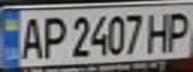0: (106, 11, 127, 56)
2: (66, 12, 93, 60)
4: (87, 11, 112, 57)
7: (124, 11, 148, 54)
A: (15, 14, 45, 61)
H: (145, 8, 175, 54)
P: (36, 12, 69, 61), (163, 8, 193, 53)
